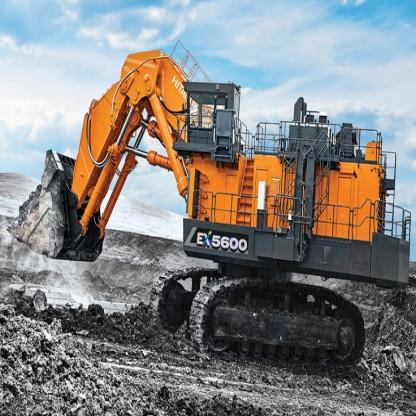excavator: (15, 19, 409, 384)
